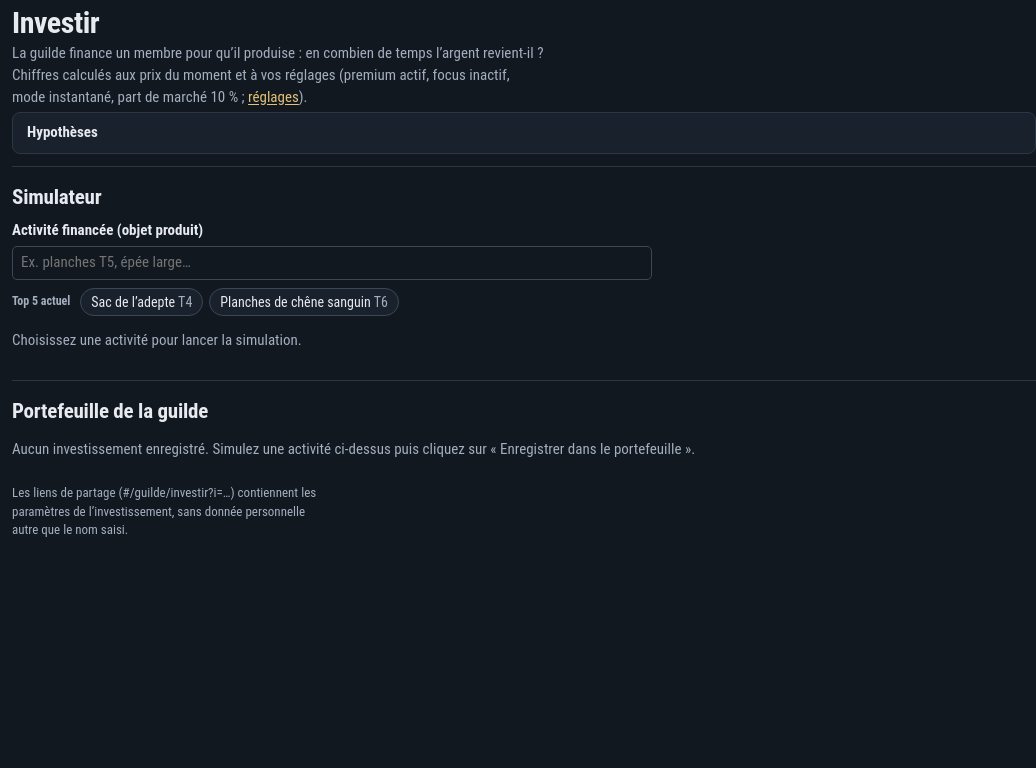
Test: page Investir — simulateur › prix manquants et activité non rentable : message clair, pas de chiffres
The width and height of the screenshot is (1036, 768).
Type "frêne" into the search field labelled "Activité financée (objet produit)" at coordinates (332, 263), box top-left (12, 246), bottom-right (652, 280)
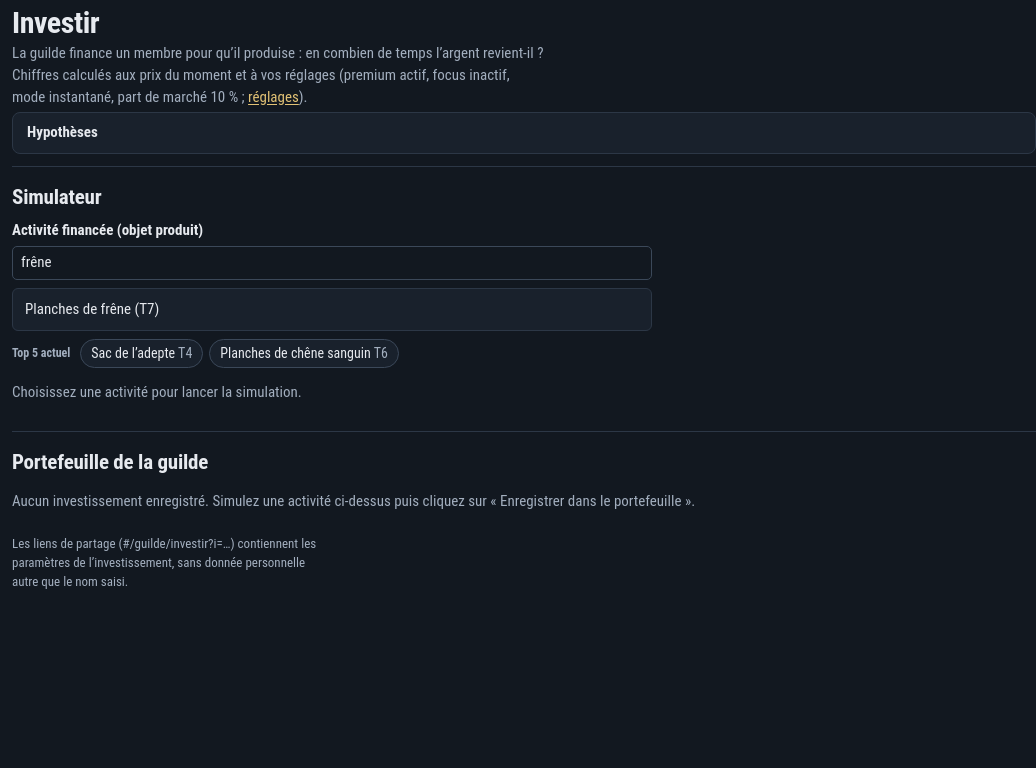
Click the button "Planches de frêne (T7)" at coordinates (92, 309), box top-left (17, 293), bottom-right (647, 326)
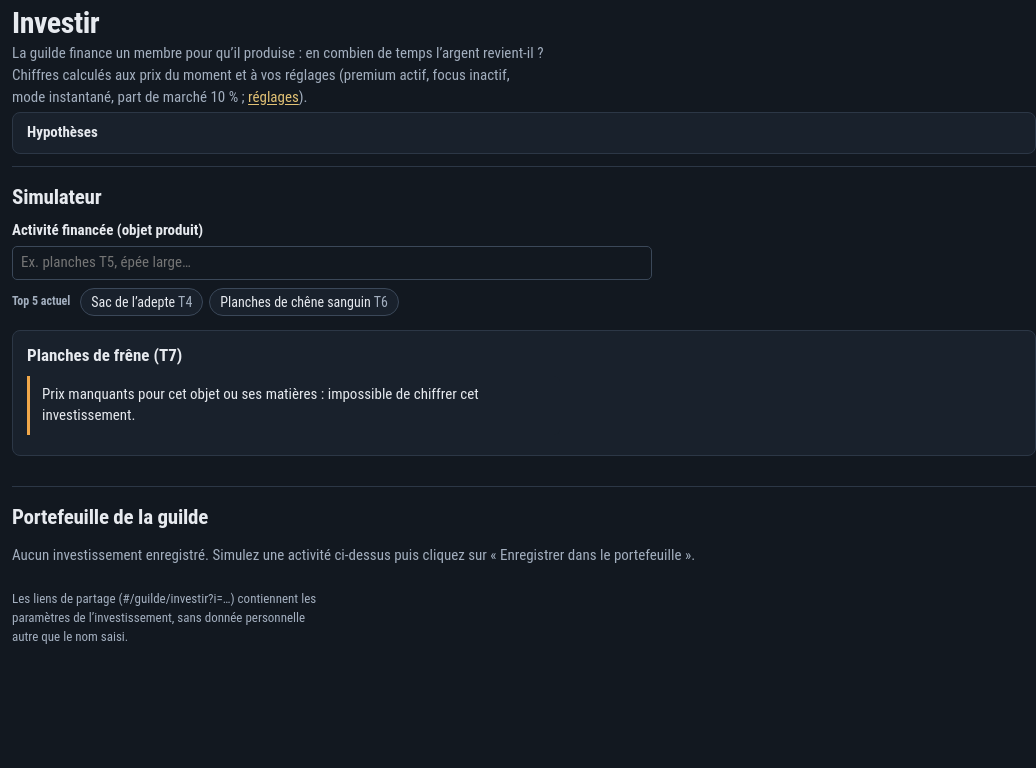
Expected: the message shows "Prix manquants", top-left (42, 385), bottom-right (479, 424)
Type "cedre t5" into the search field labelled "Activité financée (objet produit)" at coordinates (332, 263), box top-left (12, 246), bottom-right (652, 280)
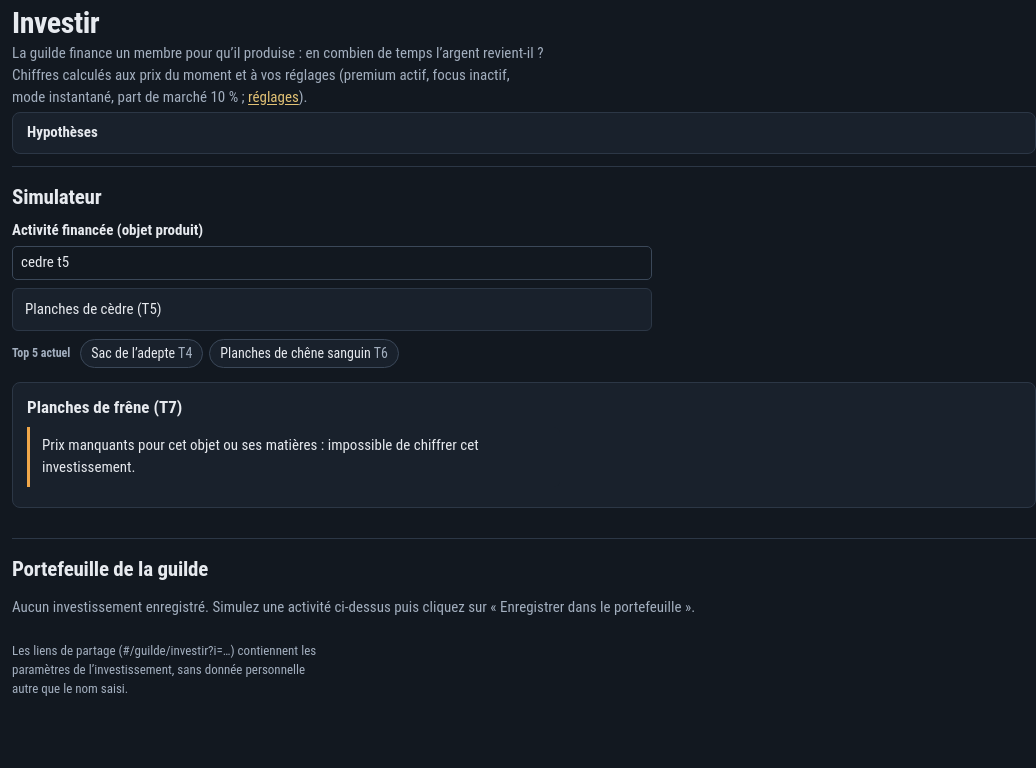
Click the button "Planches de cèdre (T5)" at coordinates (93, 309), box top-left (17, 293), bottom-right (647, 326)
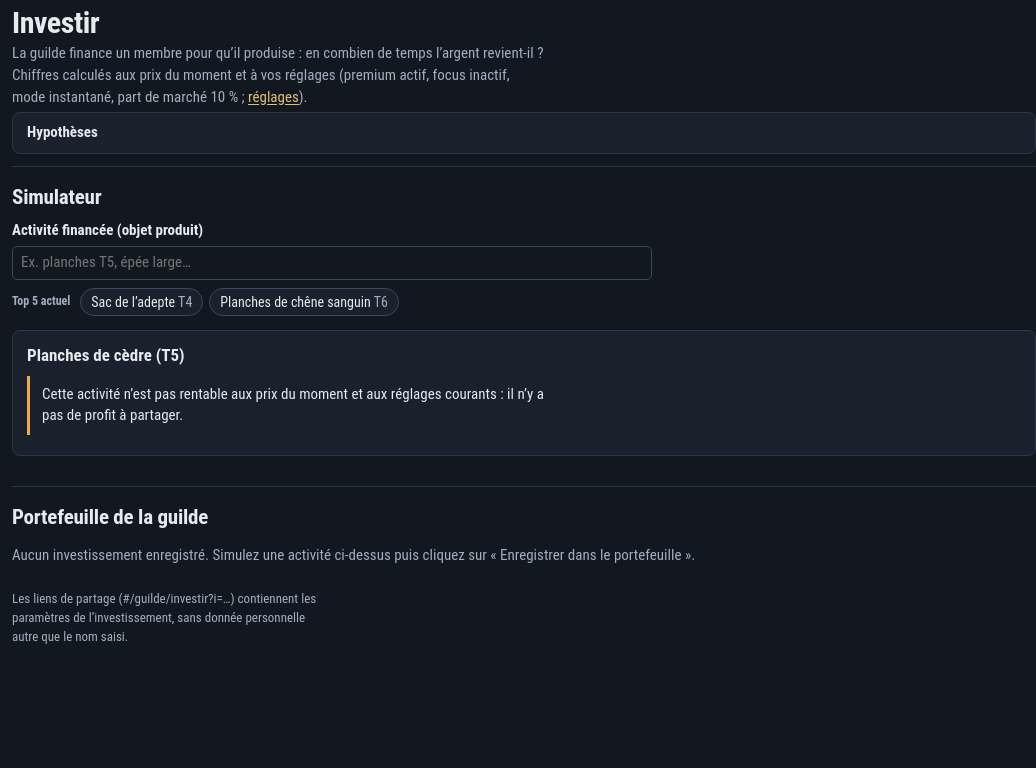
Expected: the message shows "n’est pas rentable", top-left (42, 385), bottom-right (544, 424)
